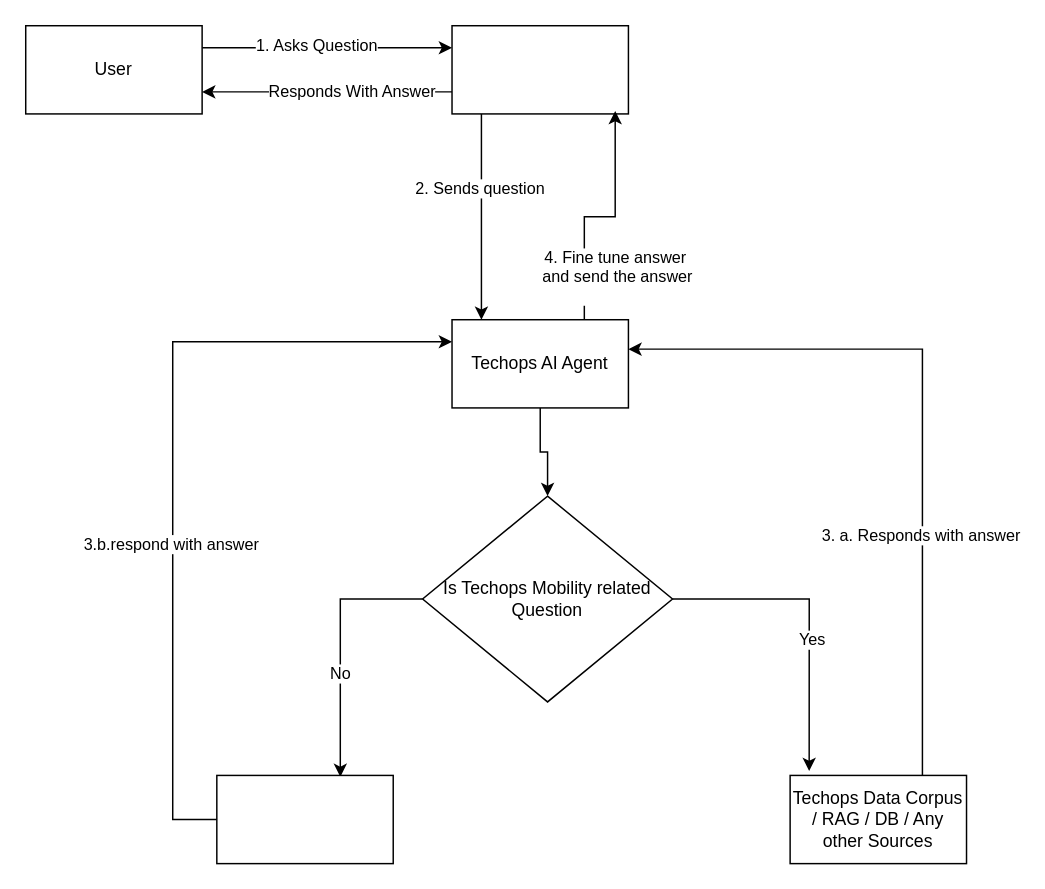
The diagram is 1045 pixels wide and 889 high, and some of its shapes have lost their labels. The shapes that lost their labels are listed below. From the top down, each one's centre as x and y in pixels, then its label:
point 539,69: Chatbot
point 304,819: Determine to which agent to talk to and get the response
